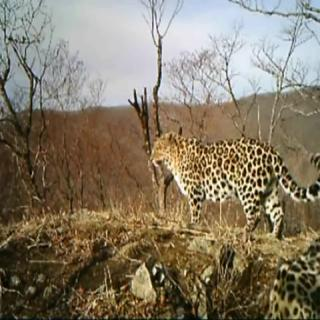Leopard: (148, 127, 320, 230)
